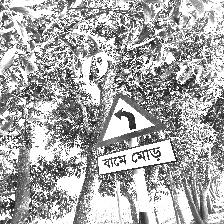Left-Turn: (94, 93, 178, 177)
